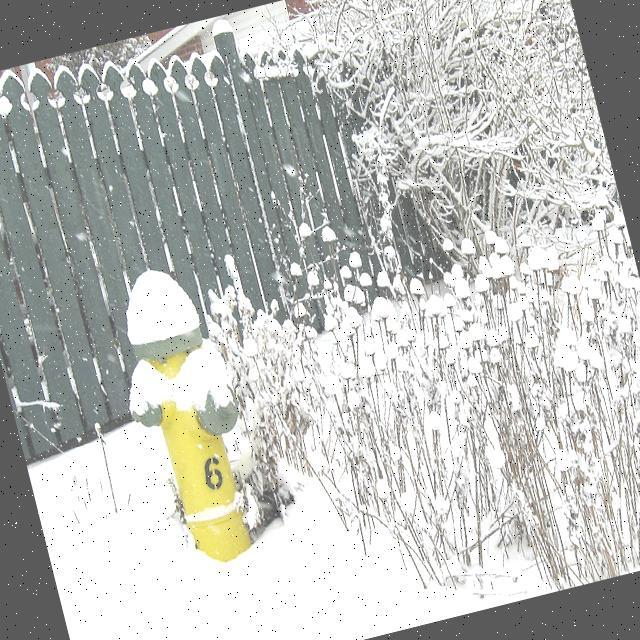fire_hydrant: (99, 256, 268, 570)
